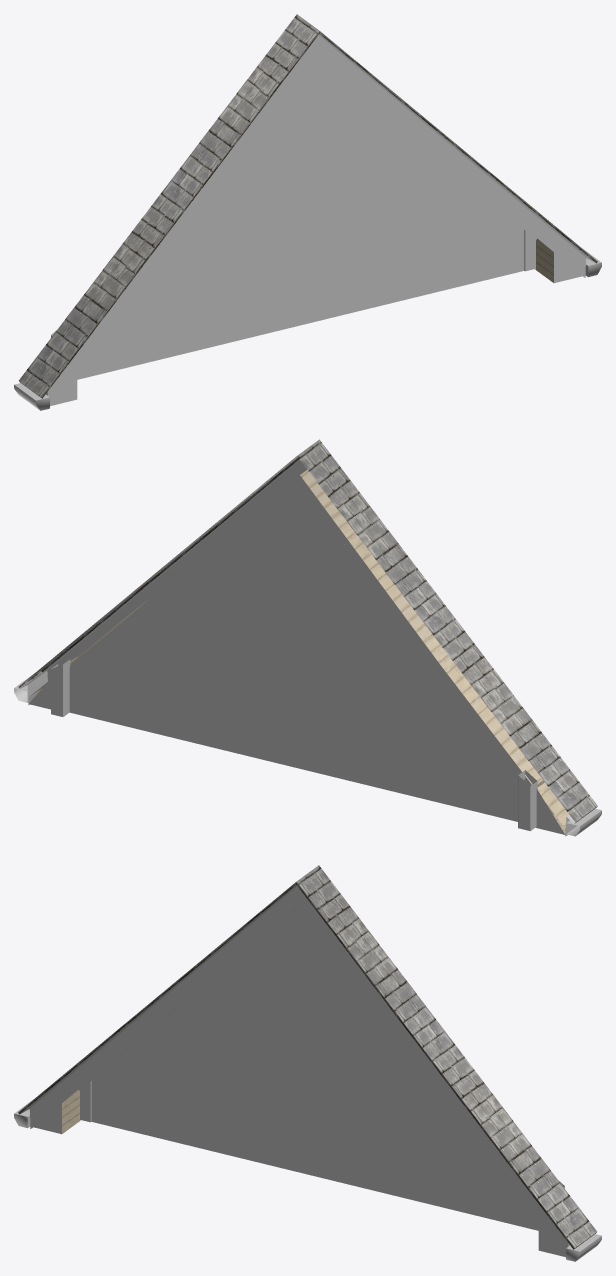
Rendered from Roof_End_5x.FBX.
The picture shows the model from 3 angles, top to bottom: view 1: azimuth 30°, elevation 25°; view 2: azimuth 150°, elevation 25°; view 3: azimuth 330°, elevation 25°; orthographic projection.
Parts seen in each view (by area): view 1: Roof_End_5x; view 2: Roof_End_5x; view 3: Roof_End_5x.
Part boxes in pixels (x1,y1,x2,y2): Roof_End_5x: (14, 14, 601, 410); Roof_End_5x: (14, 439, 601, 836); Roof_End_5x: (14, 865, 601, 1261).
Size of the model in its own units: 594 by 316 by 52.41.
